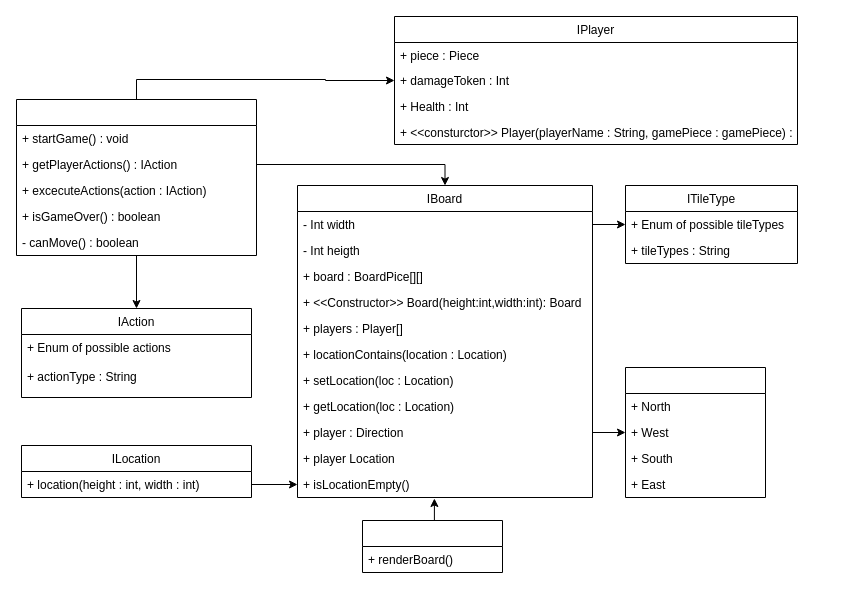
Image size: 842x589. Some labels were removed from this diagram. The box of each missing label's shape, as (x1, y1, x2, y2) in pixels:
IDirection: (624, 366, 766, 498)
IGame: (16, 98, 256, 256)
IGui: (362, 520, 502, 572)
